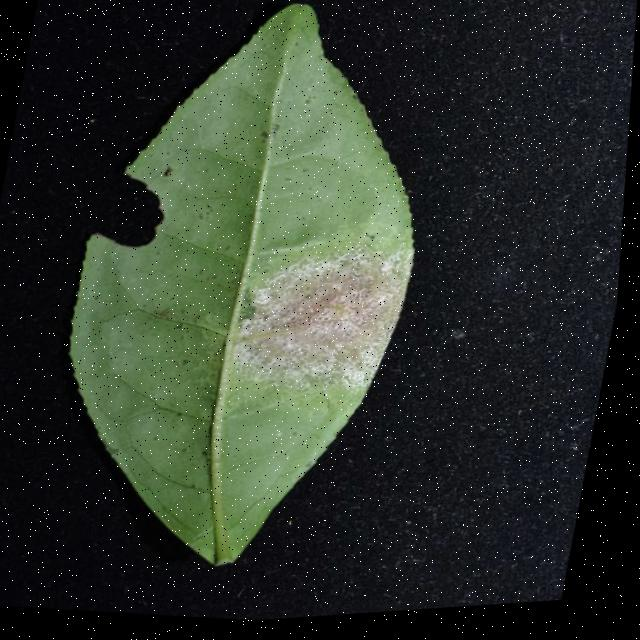Tea exobasidium blight: (231, 242, 436, 406)
